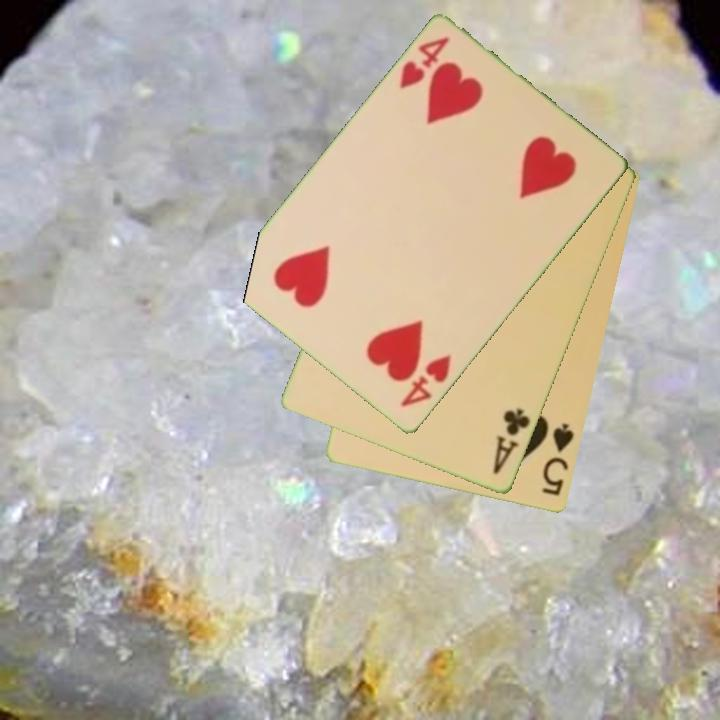4h: (396, 351, 455, 411), (396, 33, 453, 93)
5s: (538, 420, 578, 499)
Ac: (489, 406, 534, 478)
